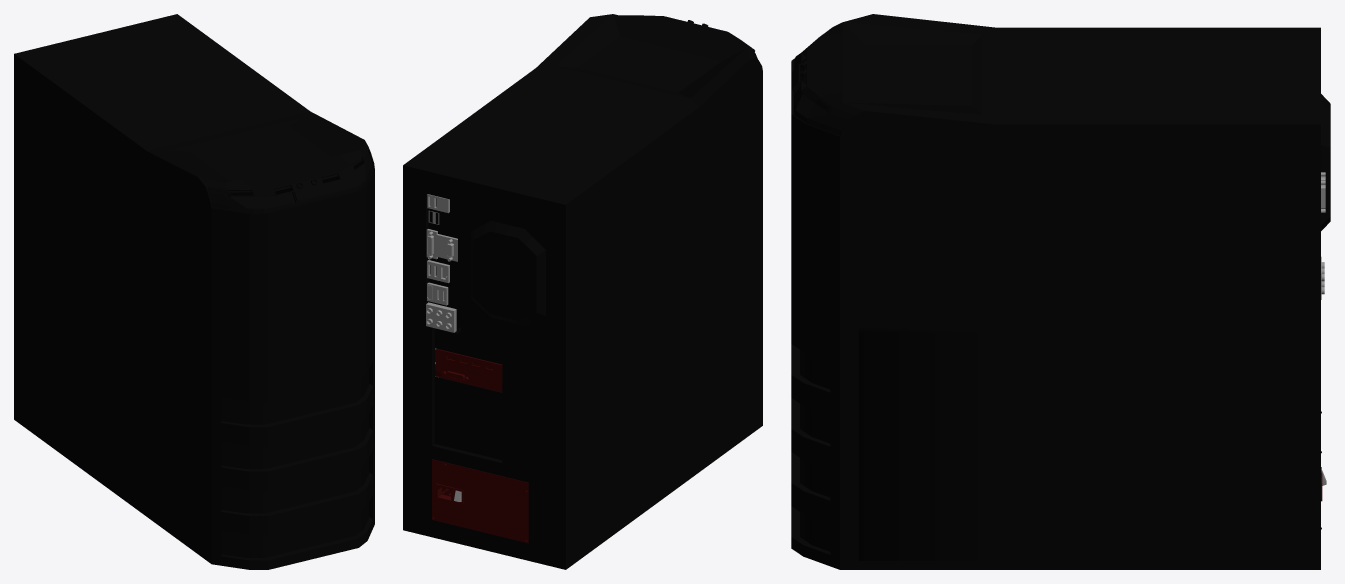
File: Complete Computer.FBX
3 renders of one model, left to right at view 1: azimuth 30°, elevation 25°; view 2: azimuth 150°, elevation 25°; view 3: azimuth 270°, elevation 25°, orthographic. The views are drawn at different scales.
Parts seen in each view (by area): view 1: open side computer case, Roof Case, Front case, Door Front case, Back Case; view 2: open side computer case, Back Case, Roof Case, back fan window, Cover 1, Power suplly, Motherboard, Video kaart, Cover 2, Front case, Door Front case; view 3: Back case, Roof Case, Door Front case, Front case, Back Case, Base Case, back fan window.
Part boxes in pixels (<box>): open side computer case: <box>17,56,207,558</box>; Roof Case: <box>17,16,374,214</box>; Front case: <box>204,347,374,569</box>; Door Front case: <box>204,168,374,392</box>; Back Case: <box>14,14,179,421</box>; open side computer case: <box>569,64,758,567</box>; Back Case: <box>403,163,568,569</box>; Roof Case: <box>406,14,762,203</box>; back fan window: <box>471,221,545,325</box>; Cover 1: <box>434,328,502,459</box>; Power suplly: <box>432,459,528,543</box>; Motherboard: <box>426,194,457,377</box>; Video kaart: <box>435,349,502,392</box>; Cover 2: <box>428,198,457,330</box>; Front case: <box>755,248,762,430</box>; Door Front case: <box>755,71,762,253</box>; Back case: <box>858,137,1313,560</box>; Roof Case: <box>791,14,1320,137</box>; Door Front case: <box>791,61,858,353</box>; Front case: <box>791,332,858,569</box>; Back Case: <box>1313,27,1320,569</box>; Base Case: <box>858,561,1313,569</box>; back fan window: <box>1321,94,1330,230</box>.
Size of the model in its own units: 9.34 by 20.61 by 21.94.
